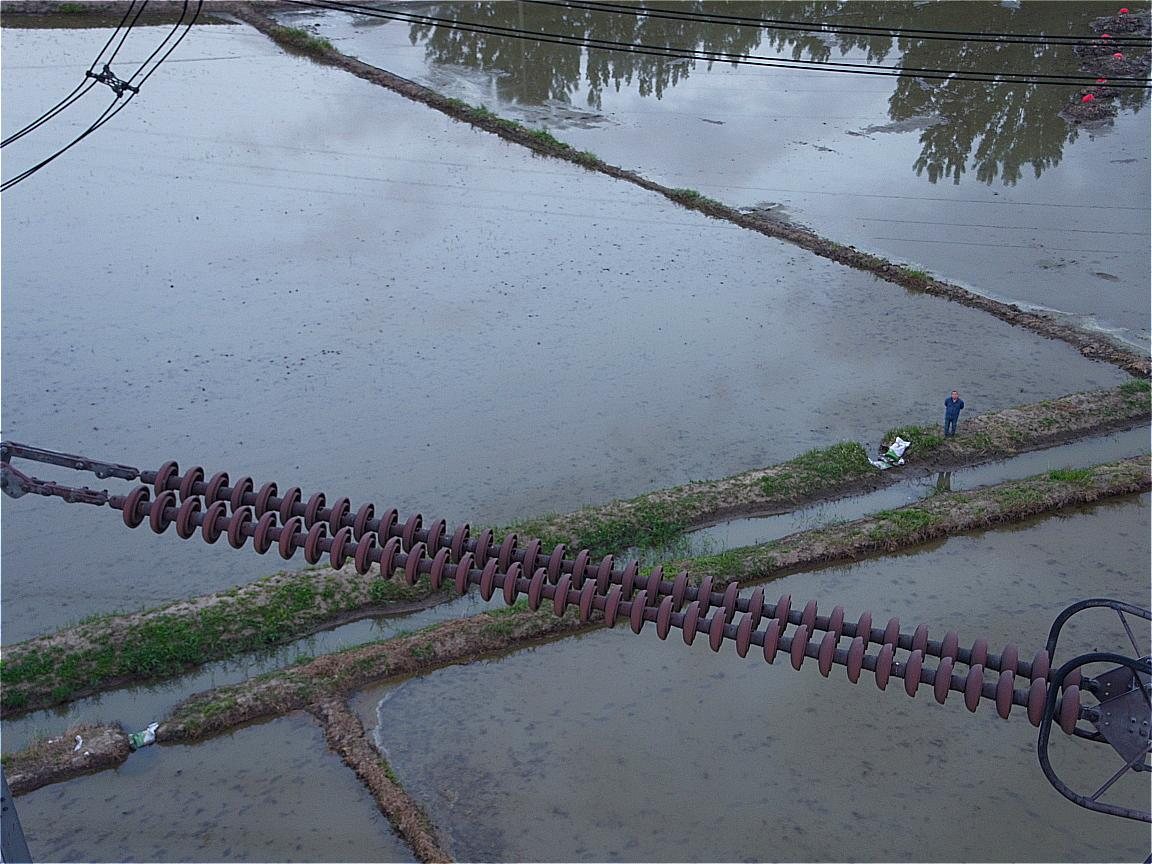insultor1: (122, 456, 1087, 735)
